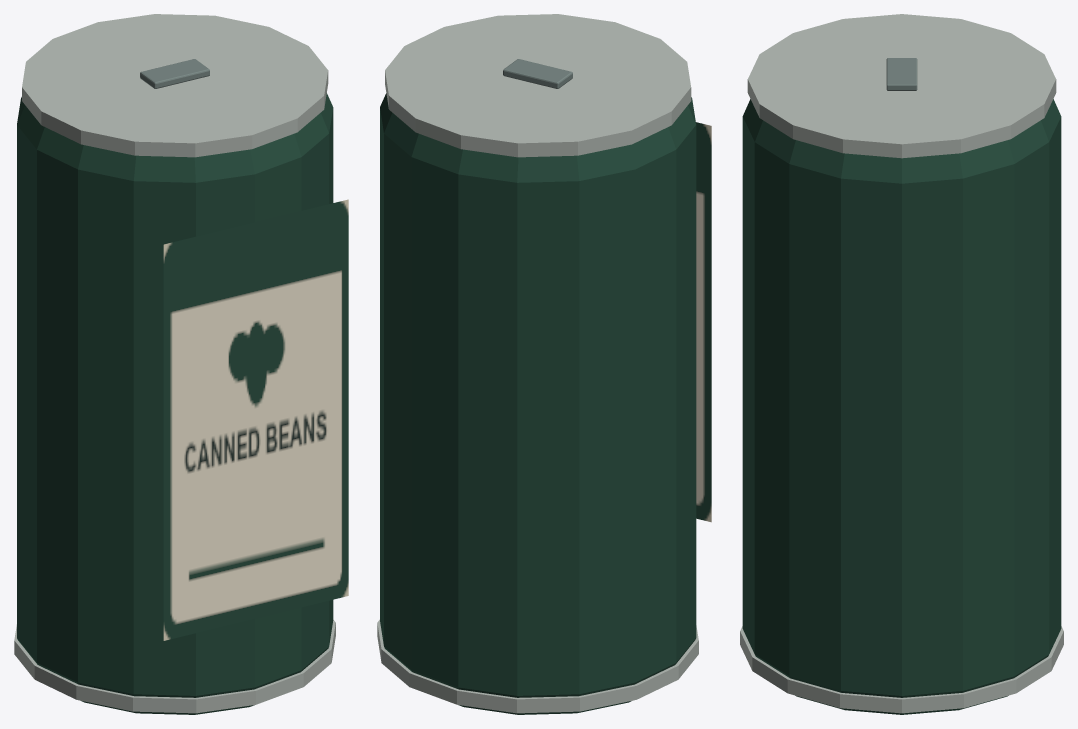
The model's file is canned_beans.fbx.
The picture shows the model from 3 angles, left to right: view 1: azimuth 30°, elevation 25°; view 2: azimuth 150°, elevation 25°; view 3: azimuth 270°, elevation 25°; orthographic projection.
Parts seen in each view (by area): view 1: canned_beans; view 2: canned_beans; view 3: canned_beans.
Boxes of the visible parts, x1,y1,x2,y2 form: canned_beans: [14, 14, 348, 714]; canned_beans: [377, 14, 711, 714]; canned_beans: [740, 14, 1063, 714].
Bounding box in the file's own units: 12.6 × 24.95 × 12.6.
